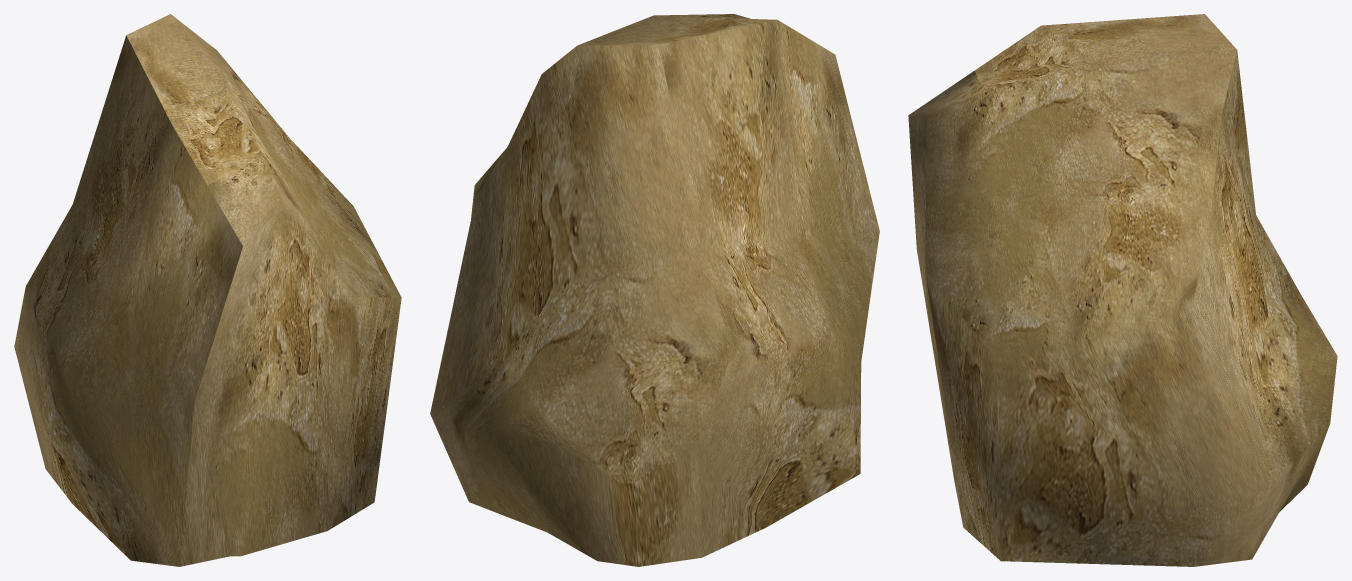
File: rock_caveB_sphere.fbx
The picture shows the model from 3 angles, left to right: view 1: azimuth 30°, elevation 25°; view 2: azimuth 150°, elevation 25°; view 3: azimuth 270°, elevation 25°; orthographic projection. The views are drawn at different scales.
Visible parts, largest first — view 1: rock_caveB_sphere_hi; view 2: rock_caveB_sphere_hi; view 3: rock_caveB_sphere_hi.
Boxes of the visible parts, left/top/right/bottom form: rock_caveB_sphere_hi: left=14, top=14, right=401, bottom=566; rock_caveB_sphere_hi: left=430, top=14, right=879, bottom=566; rock_caveB_sphere_hi: left=908, top=14, right=1337, bottom=566.
Size of the model in its own units: 1527 by 2067 by 1720.
Materials: 1 (1 with a texture image).
